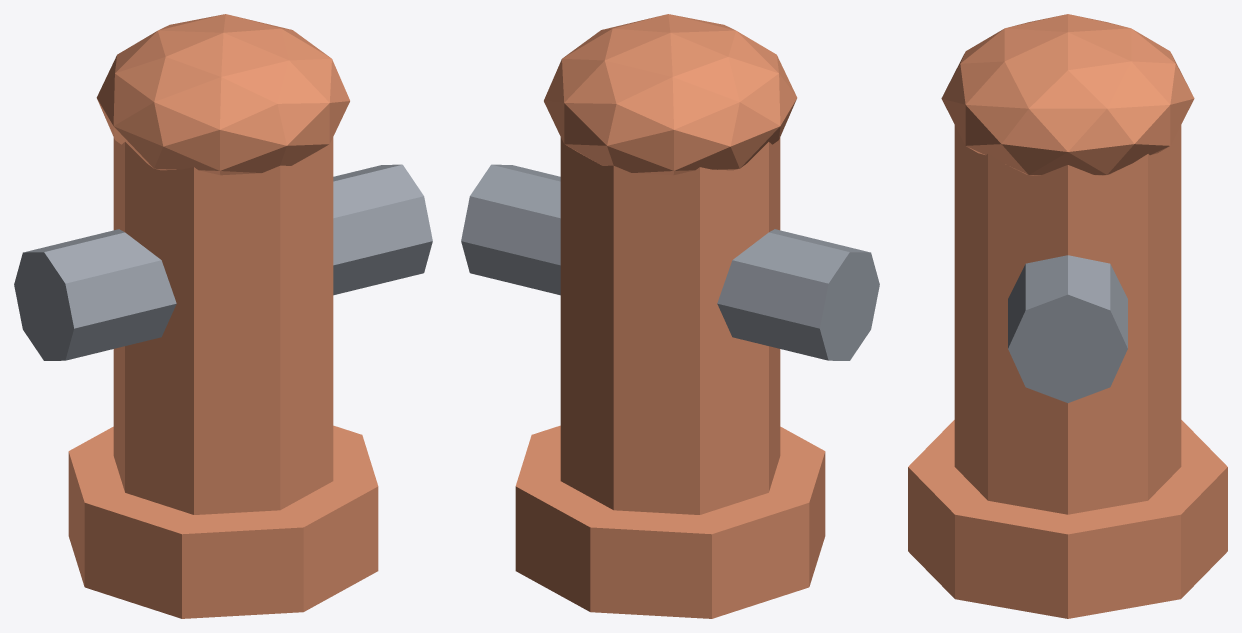
3 renders of one model, left to right at view 1: azimuth 30°, elevation 25°; view 2: azimuth 150°, elevation 25°; view 3: azimuth 270°, elevation 25°, orthographic.
Visible parts, largest first — view 1: Body, Base, Top, Cap.L, Cap.R; view 2: Body, Base, Top, Cap.L, Cap.R; view 3: Body, Base, Top, Cap.R.
Part boxes in pixels (box(x1,y1,x2,y2)): Body: box(113, 137, 333, 514); Base: box(68, 425, 378, 618); Top: box(96, 14, 349, 175); Cap.L: box(14, 229, 176, 360); Cap.R: box(333, 164, 432, 295); Body: box(560, 137, 780, 514); Base: box(515, 425, 825, 618); Top: box(544, 14, 797, 175); Cap.L: box(717, 229, 879, 360); Cap.R: box(461, 164, 560, 295); Body: box(954, 125, 1181, 514); Base: box(908, 420, 1227, 618); Top: box(941, 14, 1194, 175); Cap.R: box(1008, 255, 1127, 402).
Size of the model in its own units: 0.62 by 0.86 by 0.48.
